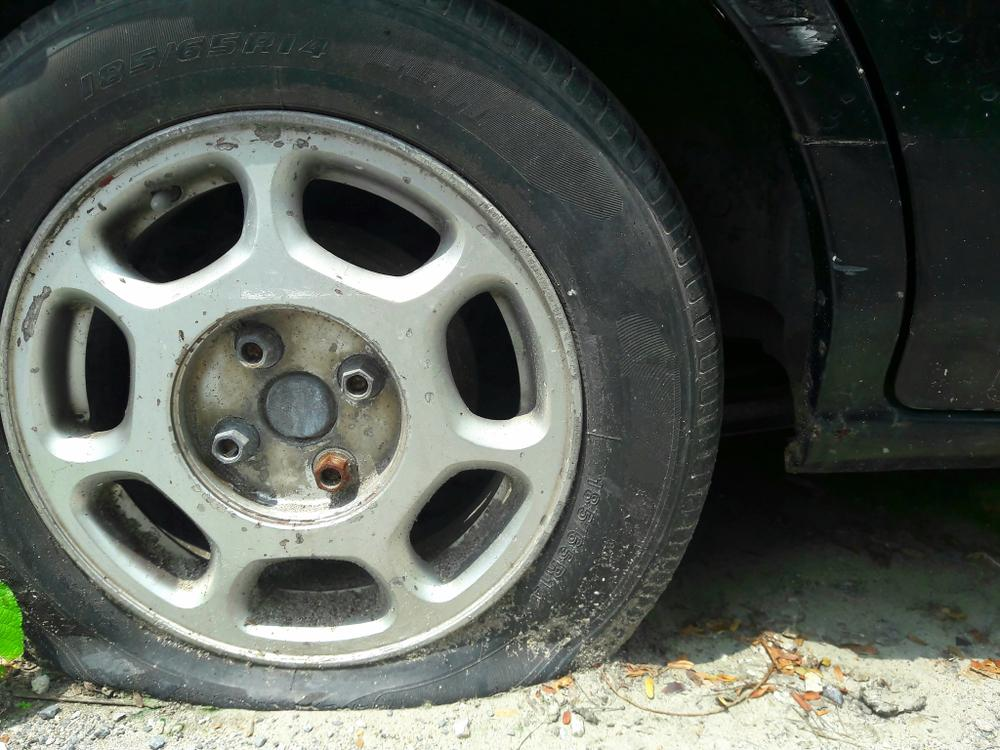tire flat: (0, 0, 727, 711)
